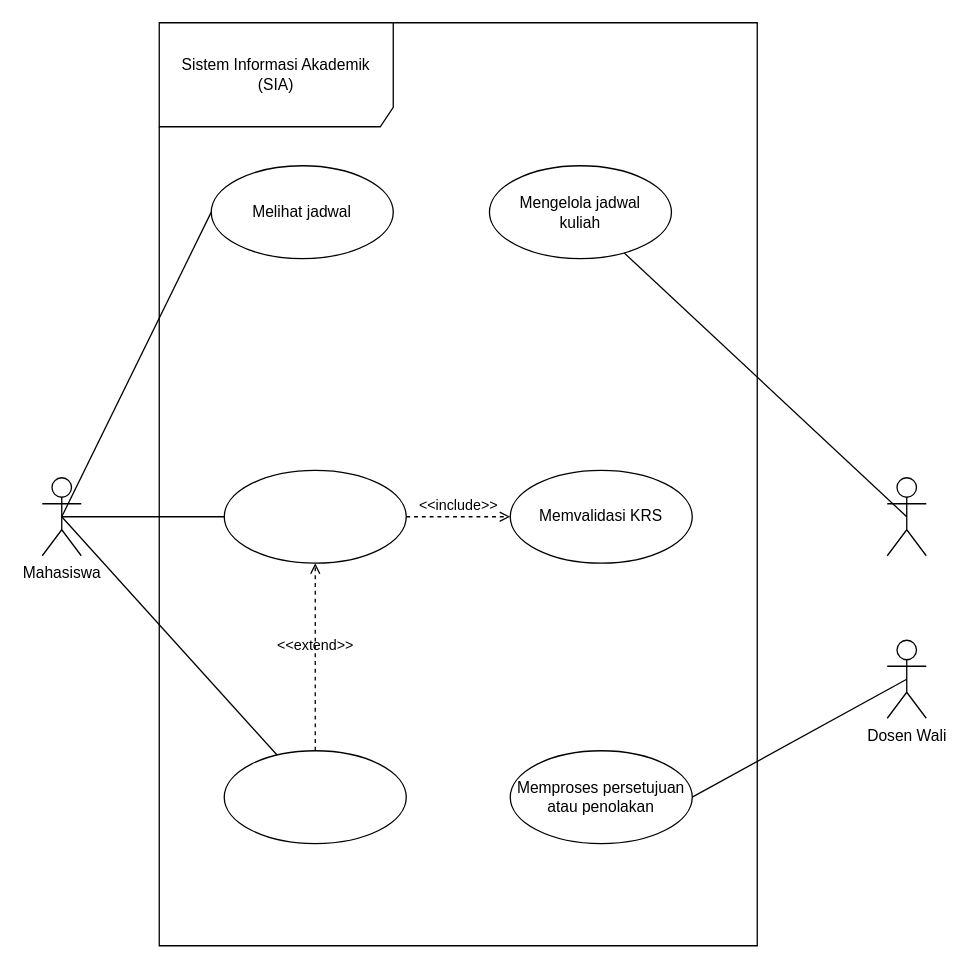
Image size: 968x968. Some labels were removed from this diagram. Each missing label, with the centre of its shape:
Admin akademik: the point at 906,516
Mengajukan KRS: the point at 314,516
Mengunduh Bukti: the point at 314,796
